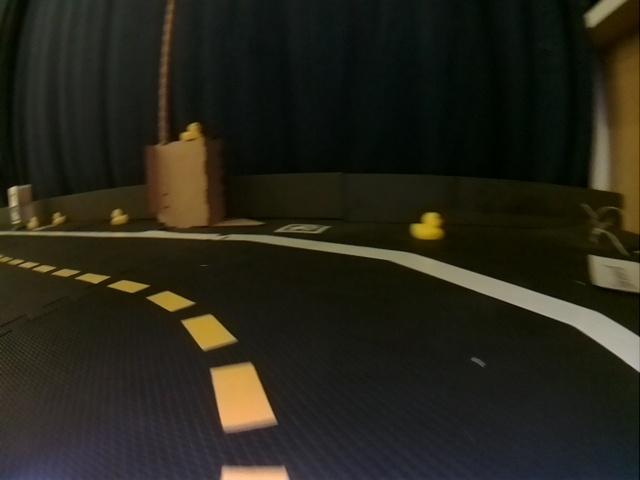Duckie: (409, 212, 444, 240), (180, 122, 202, 140), (109, 209, 128, 224), (52, 212, 66, 224), (27, 217, 39, 229)
QR code: (276, 223, 330, 233)
